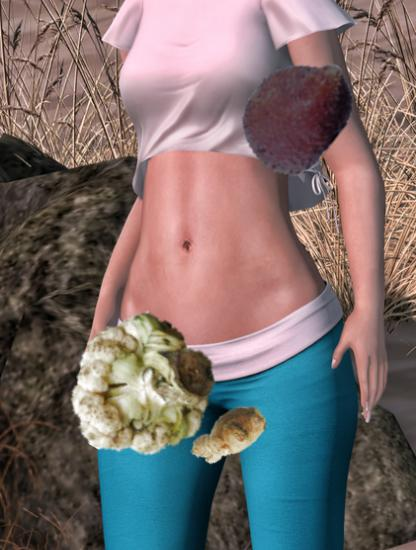Cauliflower: (67, 314, 216, 463)
Ginger: (187, 394, 270, 477)
Salak: (235, 50, 360, 175)
